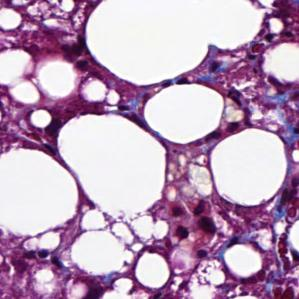inflammation: (170, 197, 215, 241)
